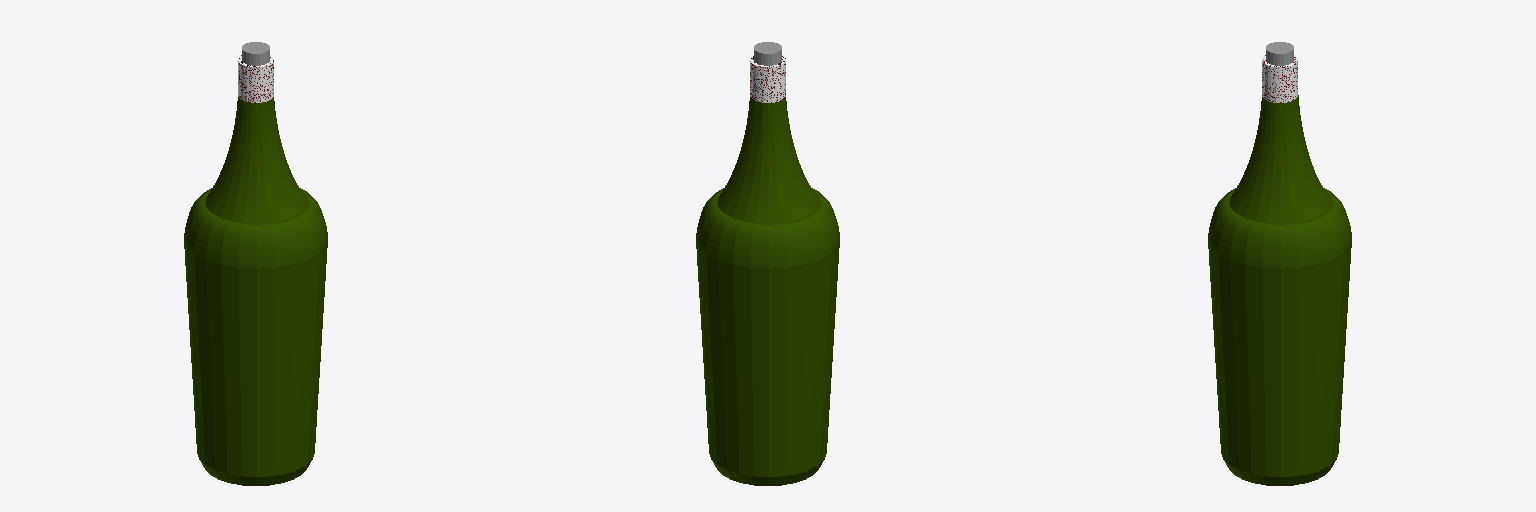
3 renders of one model, left to right at view 1: azimuth 30°, elevation 25°; view 2: azimuth 150°, elevation 25°; view 3: azimuth 270°, elevation 25°, orthographic.
Parts seen in each view (by area): view 1: SketchUp_ID3.027, SketchUp.001_ID11.012, SketchUp.003_ID32.012; view 2: SketchUp_ID3.027, SketchUp.001_ID11.012, SketchUp.003_ID32.012; view 3: SketchUp_ID3.027, SketchUp.001_ID11.012, SketchUp.003_ID32.012.
Part boxes in pixels (x1,y1,x2,y2): SketchUp_ID3.027: (184, 97, 327, 485); SketchUp.001_ID11.012: (238, 55, 273, 102); SketchUp.003_ID32.012: (242, 42, 269, 65); SketchUp_ID3.027: (696, 97, 839, 485); SketchUp.001_ID11.012: (750, 55, 785, 102); SketchUp.003_ID32.012: (754, 42, 781, 65); SketchUp_ID3.027: (1208, 95, 1351, 485); SketchUp.001_ID11.012: (1262, 55, 1297, 102); SketchUp.003_ID32.012: (1266, 42, 1293, 65).
Size of the model in its own units: 0.1397 by 0.4445 by 0.1397.
Materials: 4 (1 with a texture image).